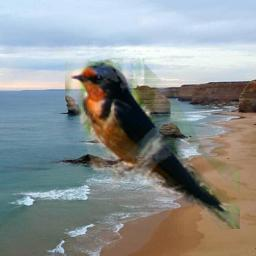Swallow: (65, 58, 240, 229)
